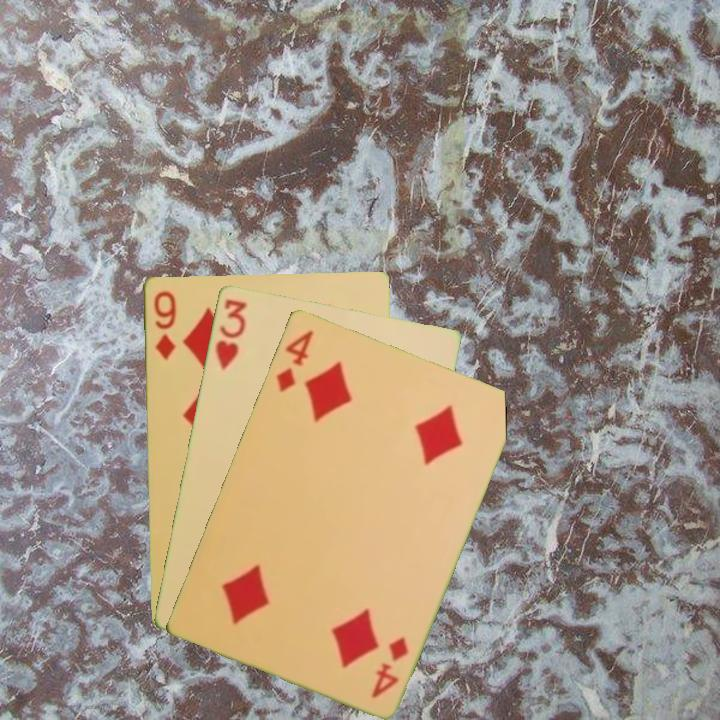3h: (211, 295, 249, 372)
4d: (272, 326, 316, 395), (367, 632, 411, 701)
9d: (150, 287, 179, 362)
